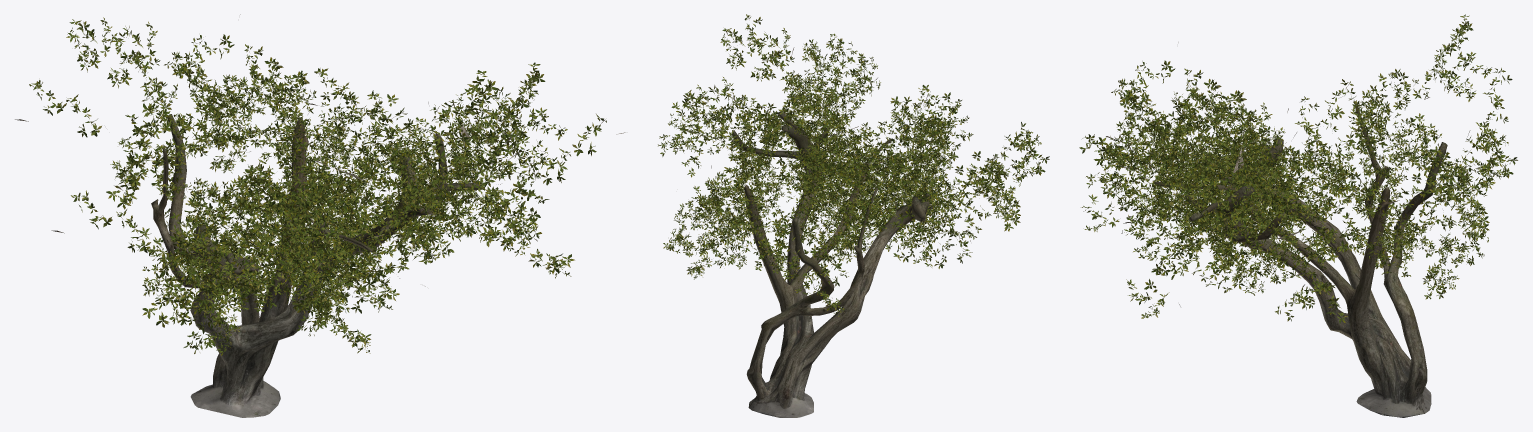
Rendered from island_tree_02.glb.
The picture shows the model from 3 angles, left to right: view 1: azimuth 30°, elevation 25°; view 2: azimuth 150°, elevation 25°; view 3: azimuth 270°, elevation 25°; orthographic projection. The views are drawn at different scales.
Visible parts, largest first — view 1: island_tree_02_LOD0; view 2: island_tree_02_LOD0; view 3: island_tree_02_LOD0.
Part boxes in pixels (x1=…): island_tree_02_LOD0: x1=15, y1=14, x2=625, y2=417; island_tree_02_LOD0: x1=658, y1=14, x2=1049, y2=417; island_tree_02_LOD0: x1=1079, y1=14, x2=1517, y2=417.
Size of the model in its own units: 4.21 by 3.41 by 4.07.
3 materials, 3 textured.
